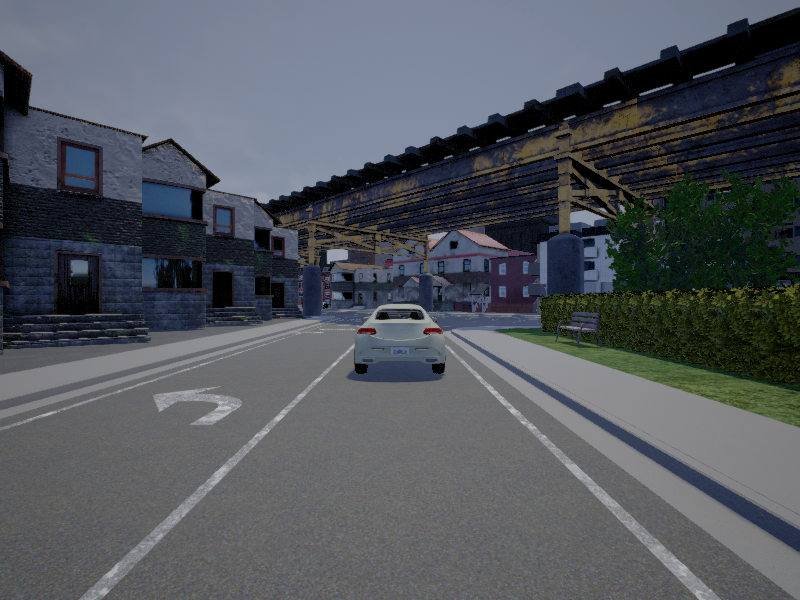Benign: (353, 302, 446, 375)
